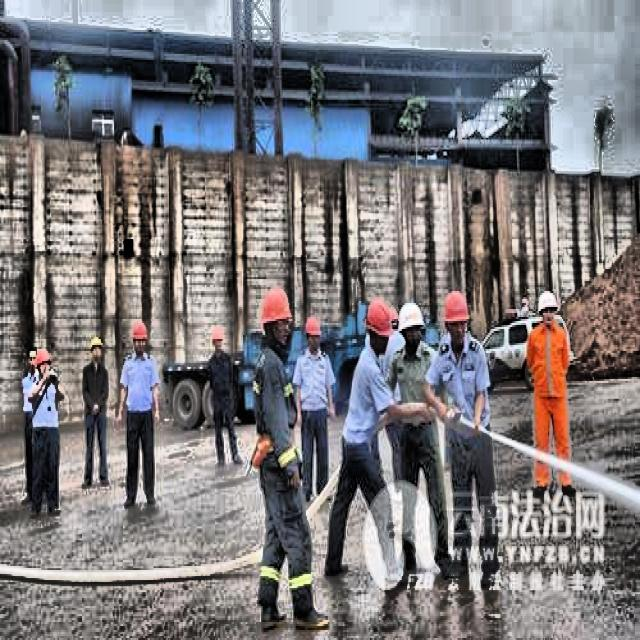helmet: (439, 287, 471, 345), (361, 299, 393, 355), (262, 287, 290, 345), (397, 301, 426, 357), (538, 285, 560, 329), (128, 317, 150, 355), (86, 331, 106, 367), (306, 315, 321, 355), (37, 347, 53, 379), (212, 325, 225, 353)
